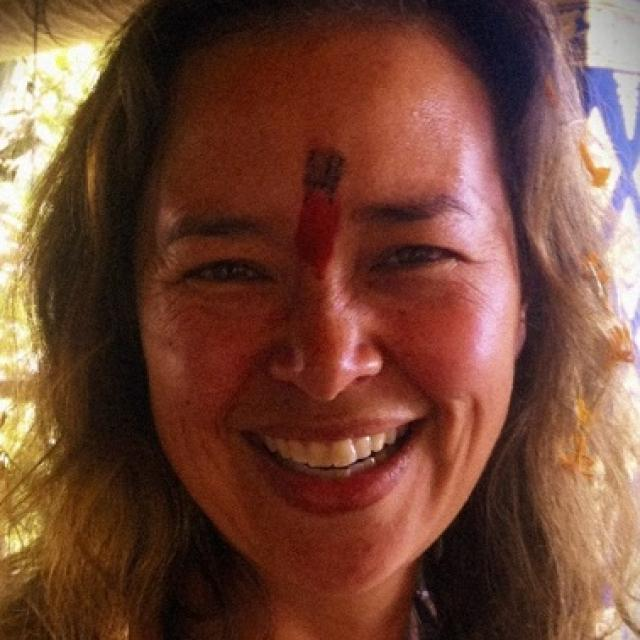Normal: (119, 12, 537, 586)
